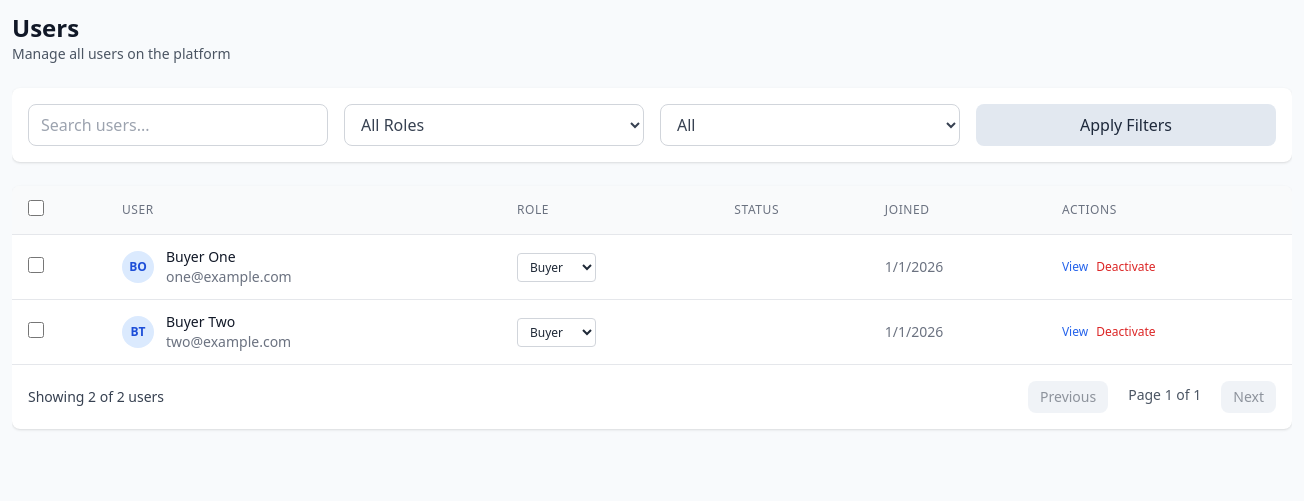
Test case: admin Users — deactivation › reports partial bulk failure instead of a false blanket success
expect the text "Buyer One" is shown: met, box [166,247,236,266]
Click the checkbox next to "BO".
click(36, 265)  # box [28,257,44,273]
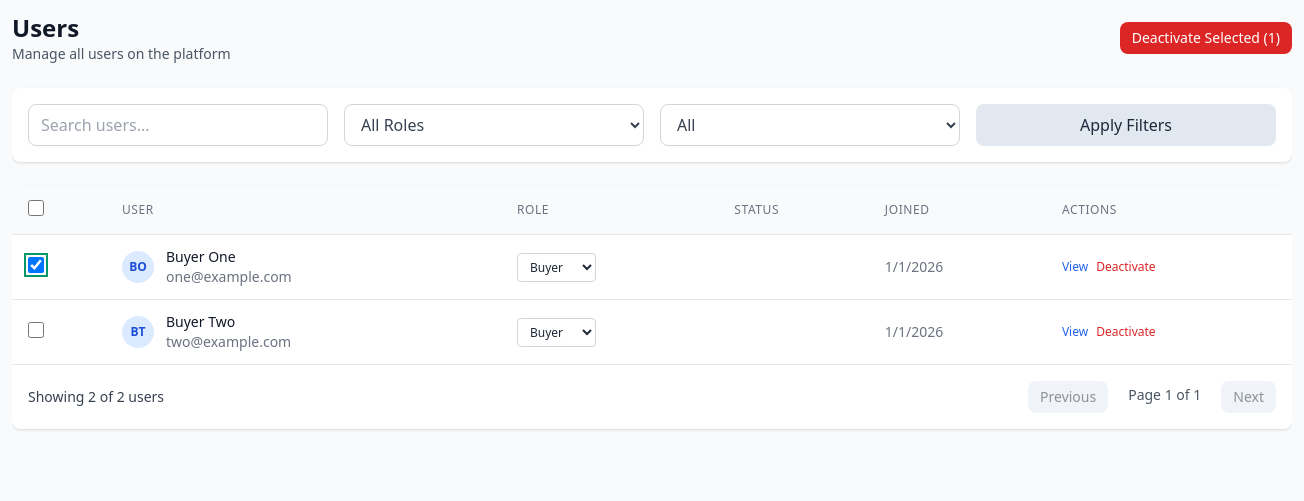
Click the 3rd checkbox.
click(36, 330)  # box [28,322,44,338]
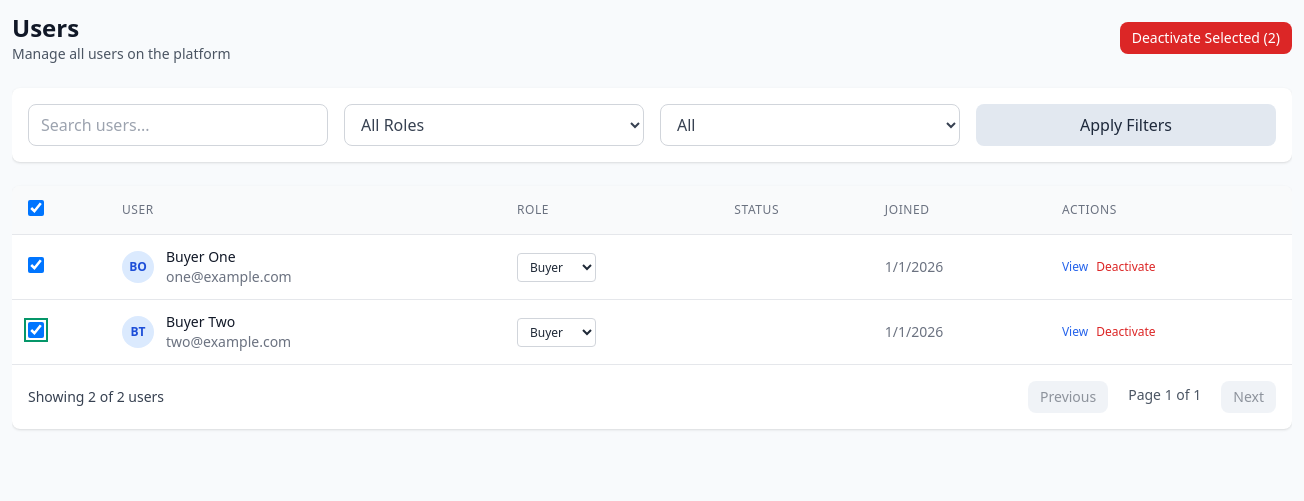
Click the button "Deactivate Selected (2)".
click(1206, 38)  # box [1120,22,1292,54]
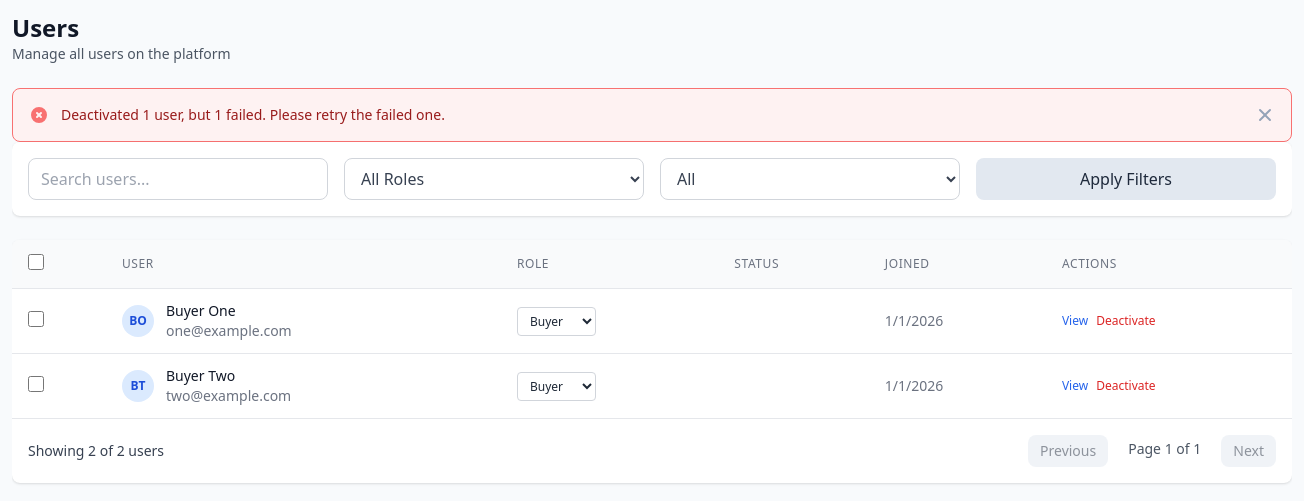
expect the text "Deactivated 1 user, but 1 failed" is shown: met, box [61,105,445,124]
